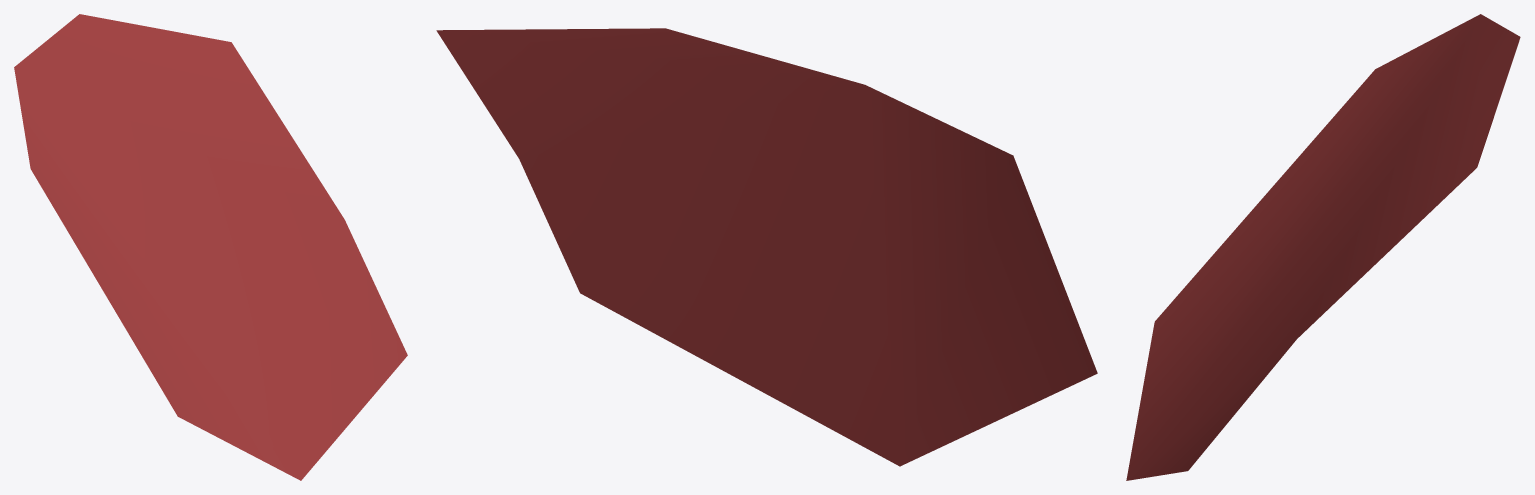
File: extensor-digitorum-e6l.glb
3 renders of one model, left to right at view 1: azimuth 30°, elevation 25°; view 2: azimuth 150°, elevation 25°; view 3: azimuth 270°, elevation 25°, orthographic. The views are drawn at different scales.
Parts seen in each view (by area): view 1: Extensor digitorum.e6l; view 2: Extensor digitorum.e6l; view 3: Extensor digitorum.e6l.
Part boxes in pixels (x1=…): Extensor digitorum.e6l: x1=14, y1=14, x2=407, y2=480; Extensor digitorum.e6l: x1=436, y1=28, x2=1097, y2=466; Extensor digitorum.e6l: x1=1126, y1=14, x2=1520, y2=480.
Size of the model in its own units: 0.00452 by 0.00517 by 0.00446.
